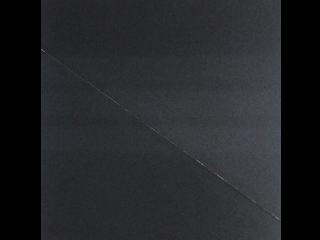crack: (40, 47, 280, 224)
